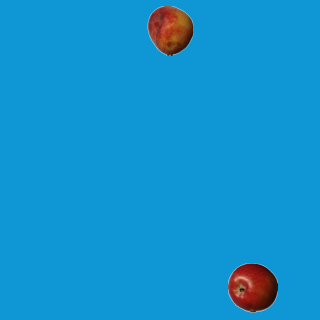Apple Braeburn: (227, 262, 277, 312)
Peach: (145, 5, 195, 55)
